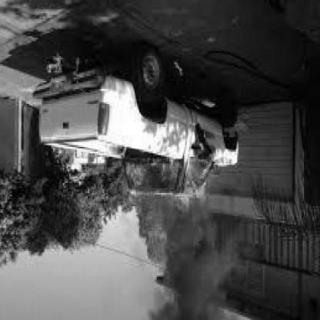Fire: (115, 146, 218, 208)
Smoke: (126, 192, 232, 320)
